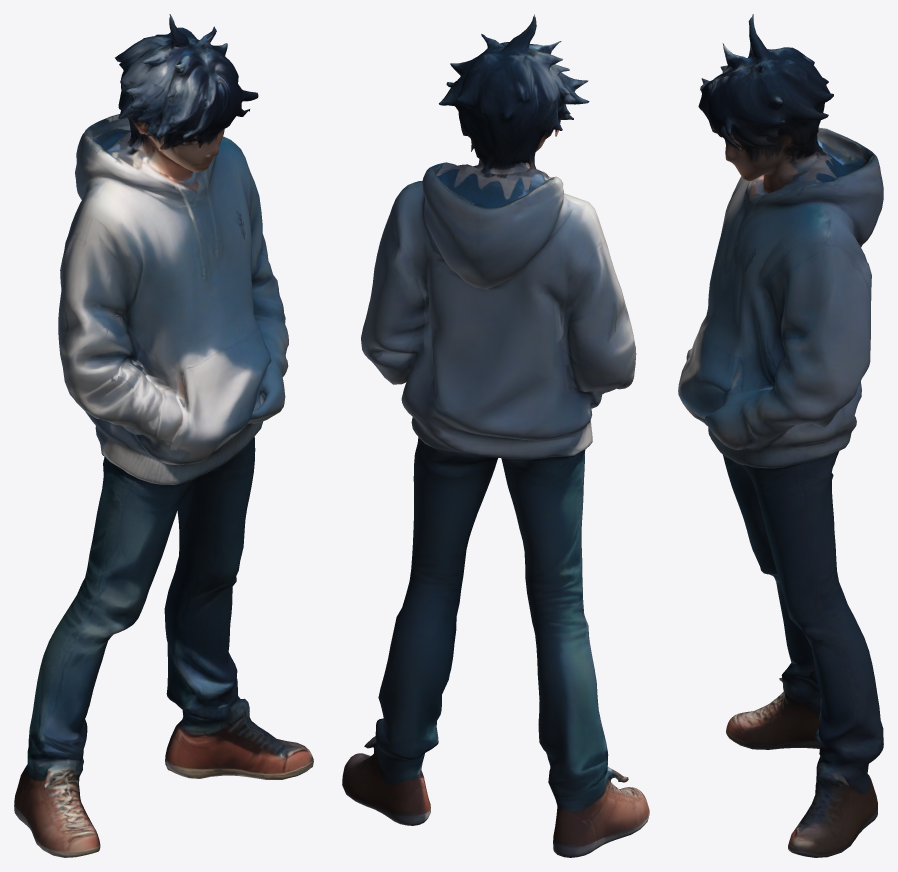
Rendered from Person.glb.
3 views of the same model, side by side, from view 1: azimuth 30°, elevation 25°; view 2: azimuth 150°, elevation 25°; view 3: azimuth 270°, elevation 25° (orthographic). The views are drawn at different scales.
Bounding box in the file's own units: 0.7388 × 2 × 0.4837.
1 material, 1 textured.
